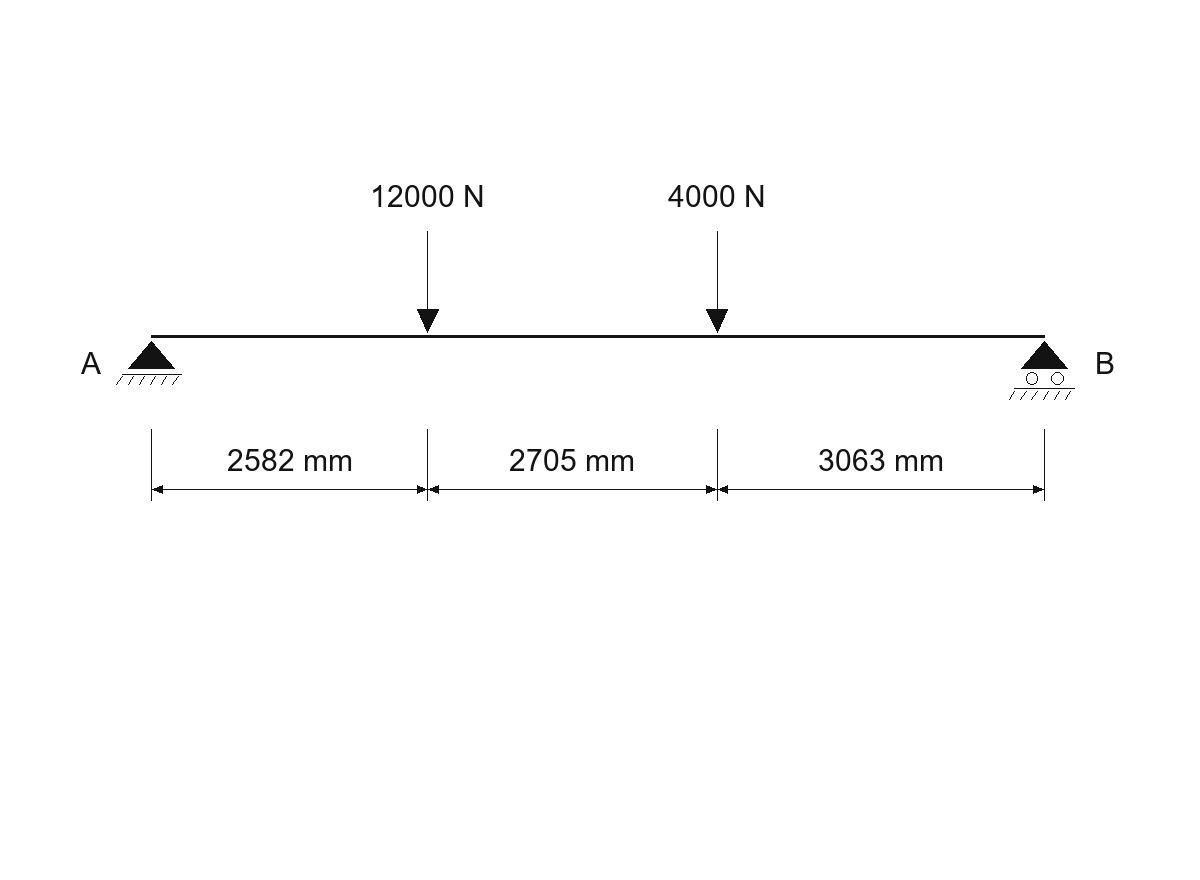pin_support: (116, 341, 182, 385)
point_load: (417, 231, 439, 333), (706, 231, 728, 333)
roller_support: (1009, 341, 1075, 400)
